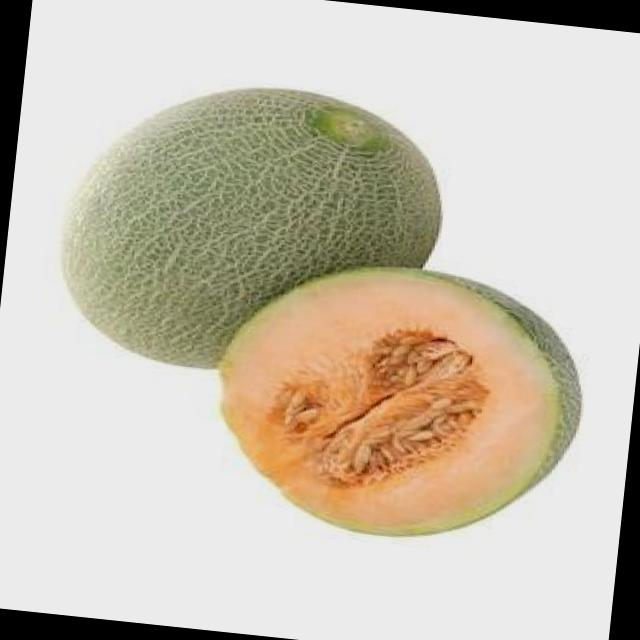cantaloupe: (51, 70, 453, 392), (202, 246, 596, 554)
